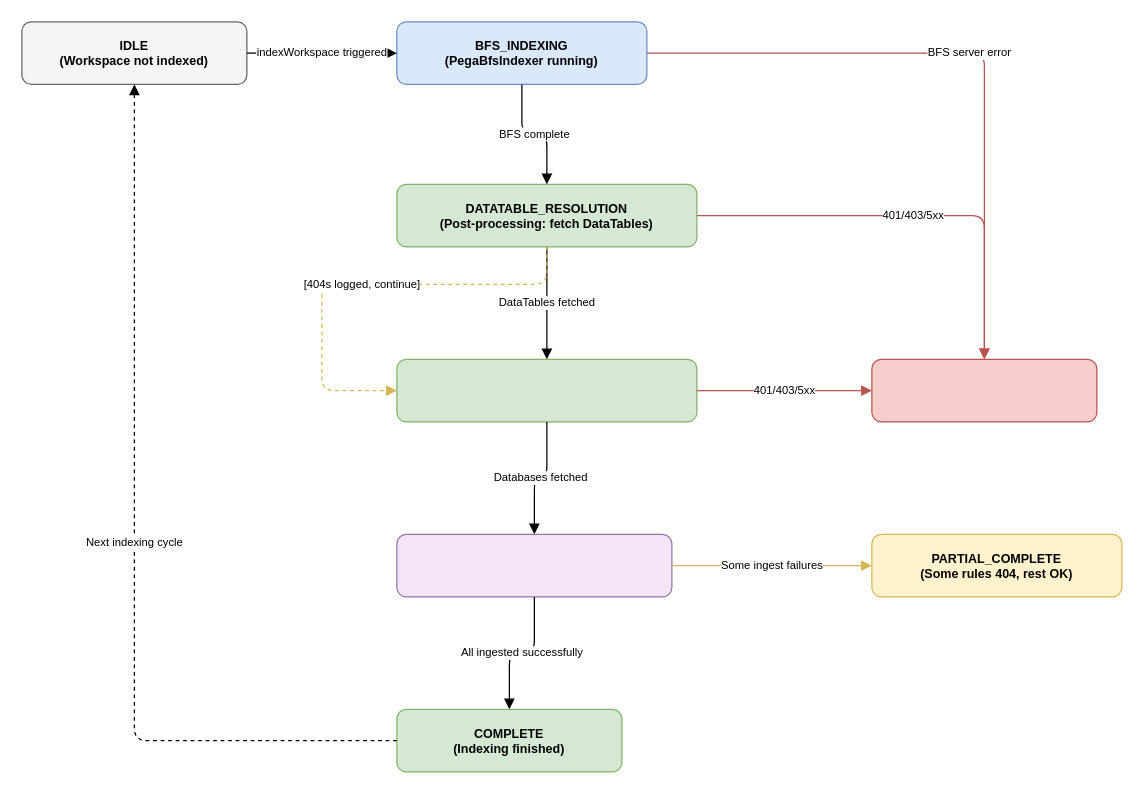
The diagram is 1144 pixels wide and 794 high, and some of its shapes have lost their labels. Each missing label, with the centre of its shape:
DATABASE_RESOLUTION (Post-processing: fetch Databases): the point at 546,390
ERROR (Fatal: auth/server error): the point at 984,390
KB_INGESTION (Ingest rules + create edges): the point at 534,565
